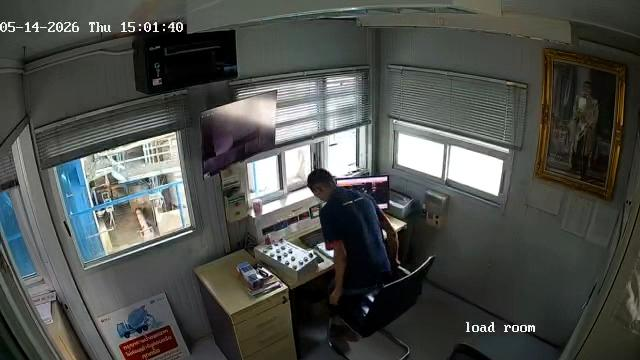Head: (307, 168, 336, 199)
People: (308, 166, 405, 308)
